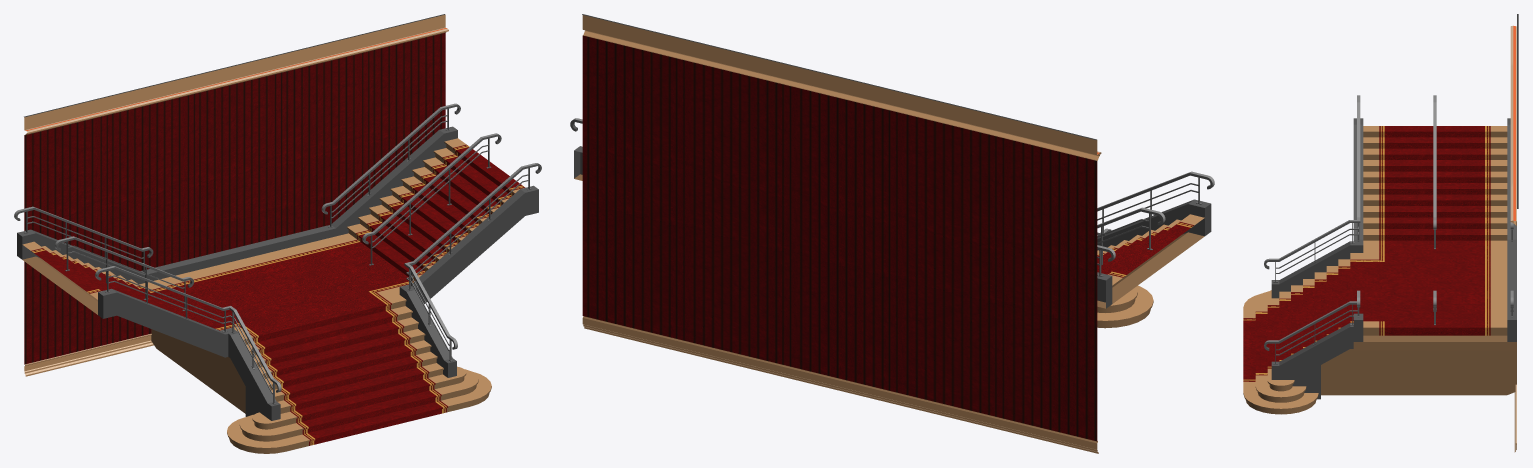
File: mesh_stairs_01.fbx
The picture shows the model from 3 angles, left to right: view 1: azimuth 30°, elevation 25°; view 2: azimuth 150°, elevation 25°; view 3: azimuth 270°, elevation 25°; orthographic projection. The views are drawn at different scales.
Visible parts, largest first — view 1: mesh_stairs_01; view 2: mesh_stairs_01; view 3: mesh_stairs_01.
Part boxes in pixels (x1,y1,x2,y2): mesh_stairs_01: (14,14,541,453); mesh_stairs_01: (570,14,1214,453); mesh_stairs_01: (1243,14,1518,452).
Size of the model in its own units: 0.1532 by 0.0865 by 0.085.
